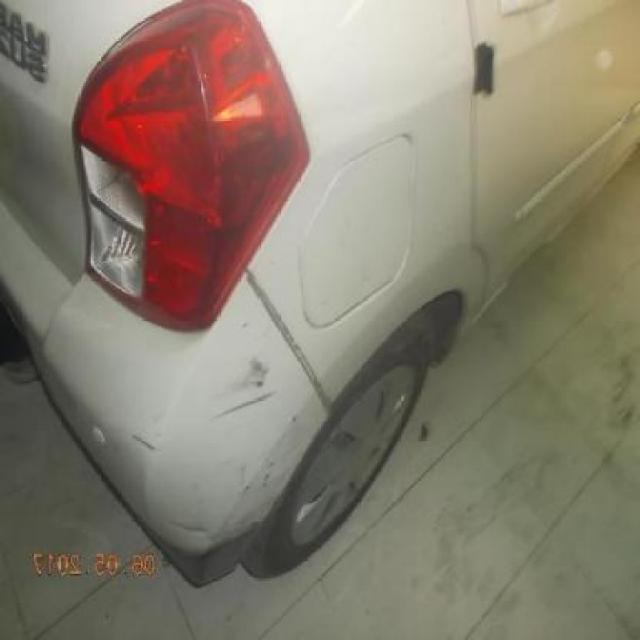damage: (242, 266, 338, 416), (209, 386, 283, 427), (213, 356, 268, 410), (127, 430, 159, 460), (257, 457, 280, 497), (286, 412, 301, 429), (241, 480, 253, 498)
